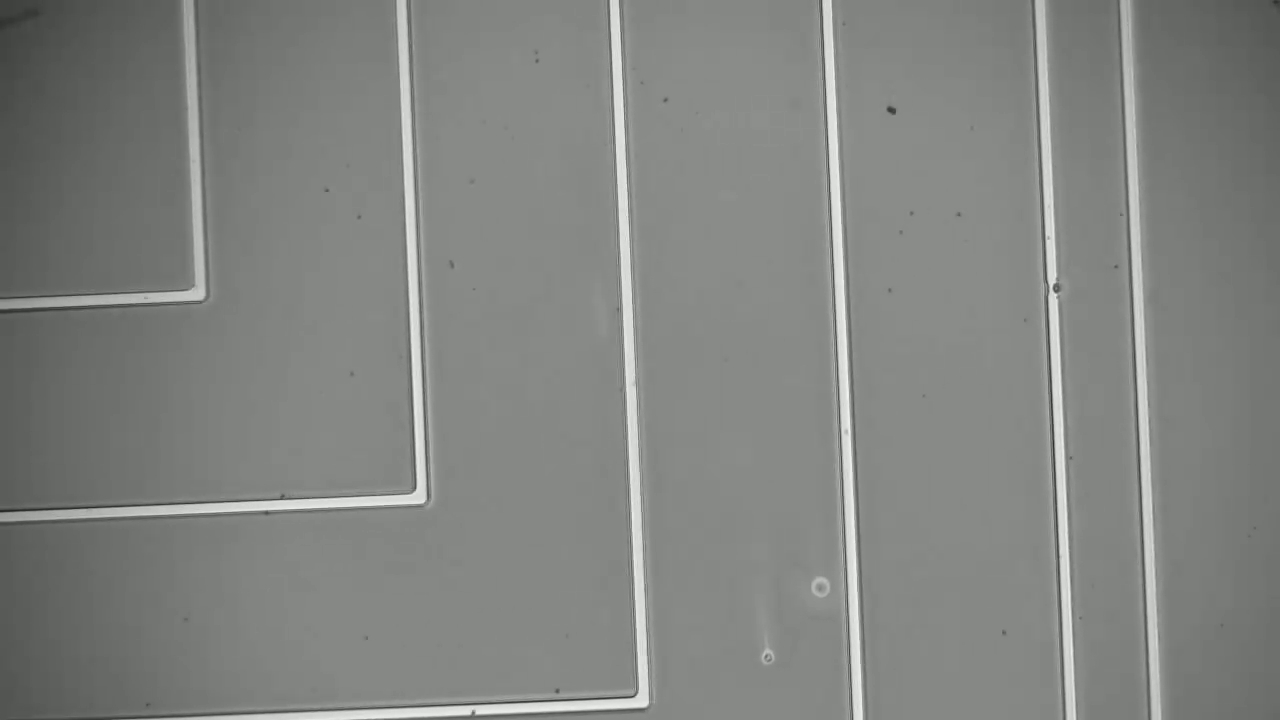stains_enbedded: (1036, 270, 1071, 302)
